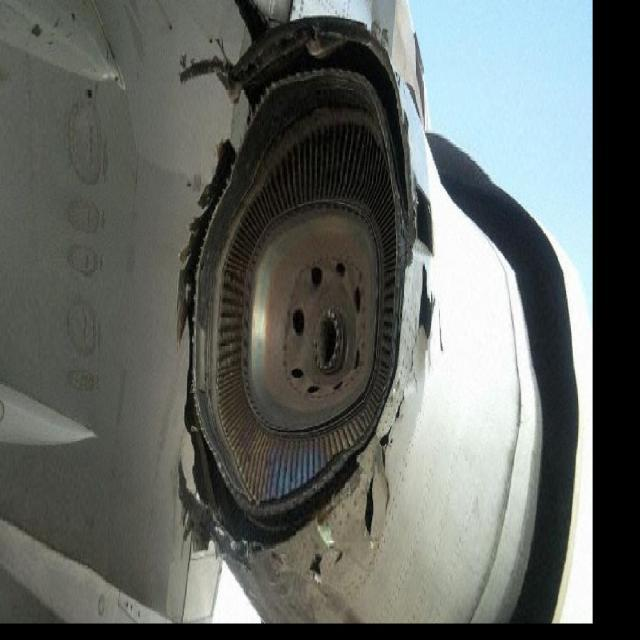crack: (309, 260, 446, 592)
